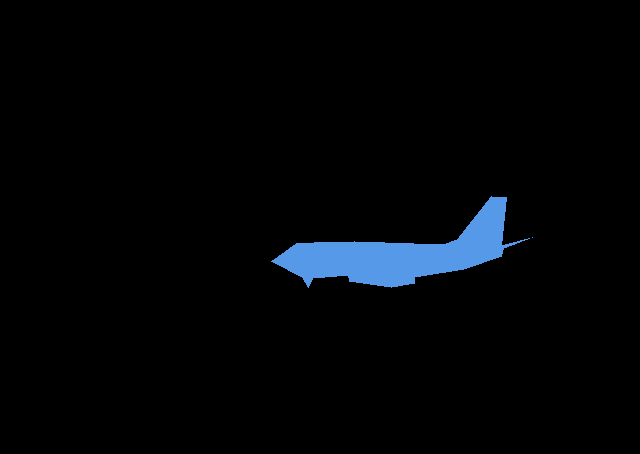Airplane: (271, 196, 532, 288)
